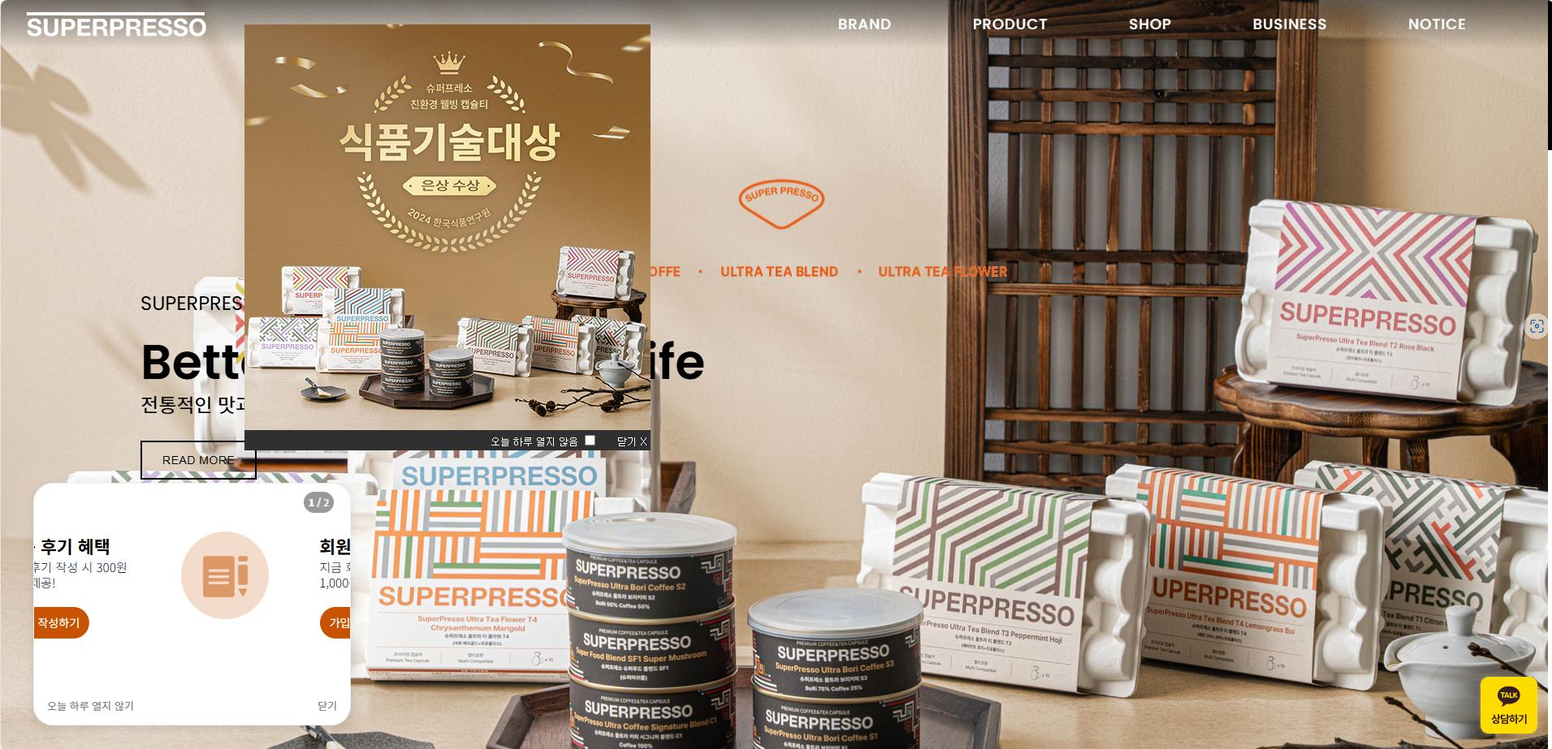button: (133, 432, 268, 483), (848, 255, 1017, 286), (806, 0, 921, 45), (1195, 6, 1346, 37), (932, 3, 1038, 46), (705, 256, 843, 283), (1366, 13, 1486, 42), (1476, 682, 1541, 731), (616, 255, 703, 288), (1082, 9, 1179, 35)
popup: (245, 28, 668, 454)
